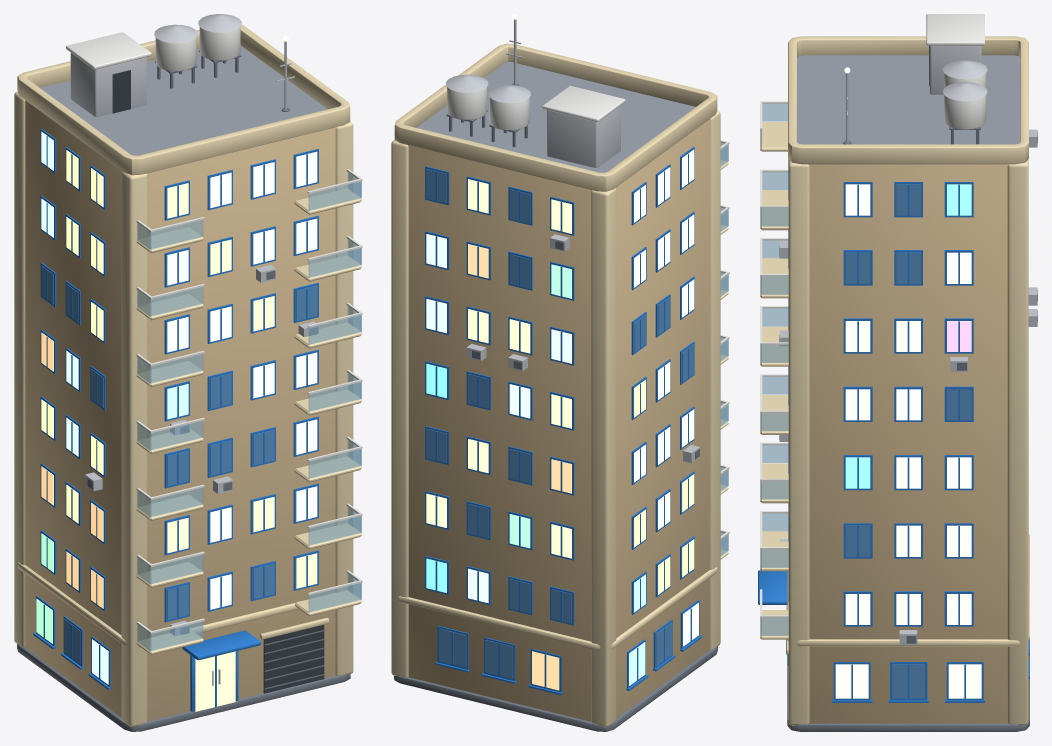
Rendered from apto_bege_8_andares.glb.
The picture shows the model from 3 angles, left to right: view 1: azimuth 30°, elevation 25°; view 2: azimuth 150°, elevation 25°; view 3: azimuth 270°, elevation 25°; orthographic projection. The views are drawn at different scales.
Visible parts, largest first — view 1: apto_bege_8_andares; view 2: apto_bege_8_andares; view 3: apto_bege_8_andares.
Part boxes in pixels (bbox=[...]): apto_bege_8_andares: bbox=[14, 14, 362, 731]; apto_bege_8_andares: bbox=[391, 14, 729, 731]; apto_bege_8_andares: bbox=[758, 14, 1037, 731].
Size of the model in its own units: 11.99 by 30.21 by 11.9.
10 materials, 1 textured.
